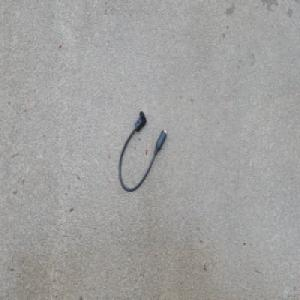Wire: (117, 108, 168, 193)
